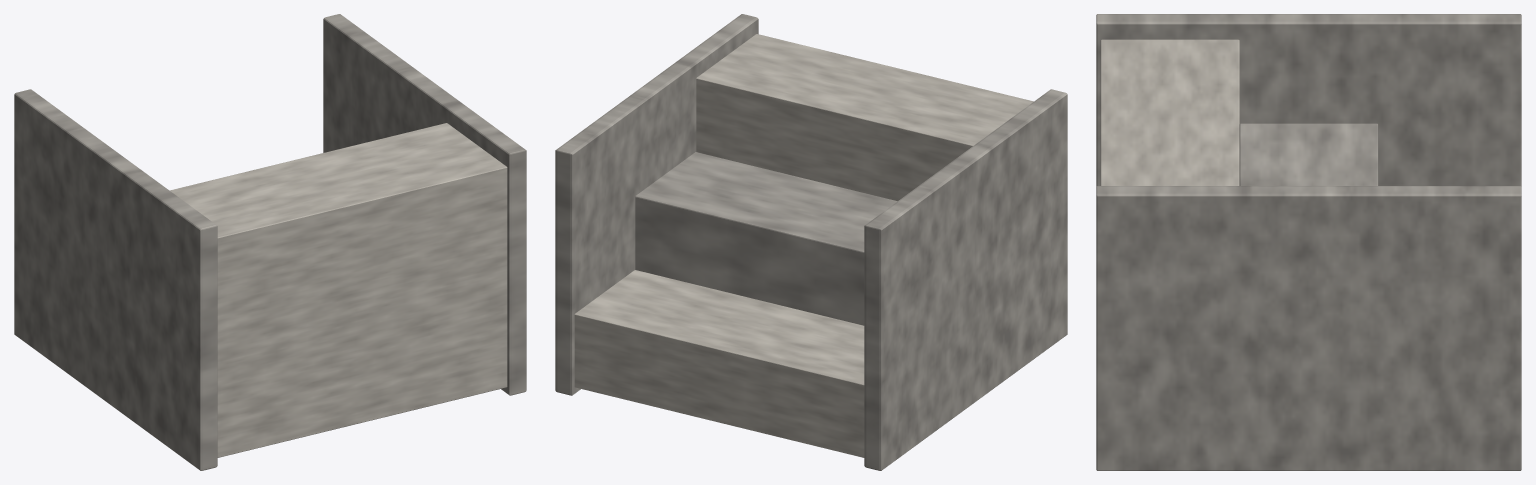
The model's file is stairs.glb.
3 views of the same model, side by side, from view 1: azimuth 30°, elevation 25°; view 2: azimuth 150°, elevation 25°; view 3: azimuth 270°, elevation 25° (orthographic). The views are drawn at different scales.
Visible parts, largest first — view 1: st_s3, st_s2; view 2: st_s2, st_s3; view 3: st_s2, st_s3.
Boxes of the visible parts, x1,y1,x2,y2 form: st_s3: (170, 123, 507, 457); st_s2: (14, 14, 526, 470); st_s2: (555, 14, 1067, 470); st_s3: (574, 34, 1033, 457); st_s2: (1096, 14, 1521, 470); st_s3: (1100, 39, 1239, 185).
Bounding box in the file's own units: 0.93 × 0.66 × 0.92.
2 materials, 2 textured.
